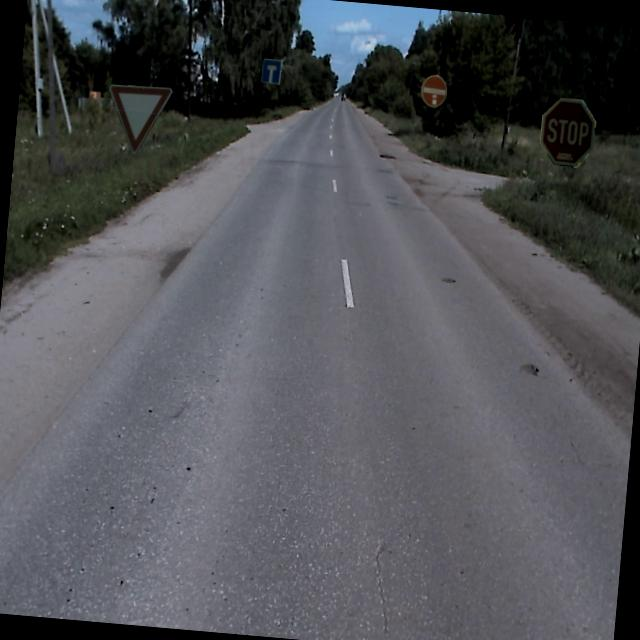road: (0, 97, 630, 640)
